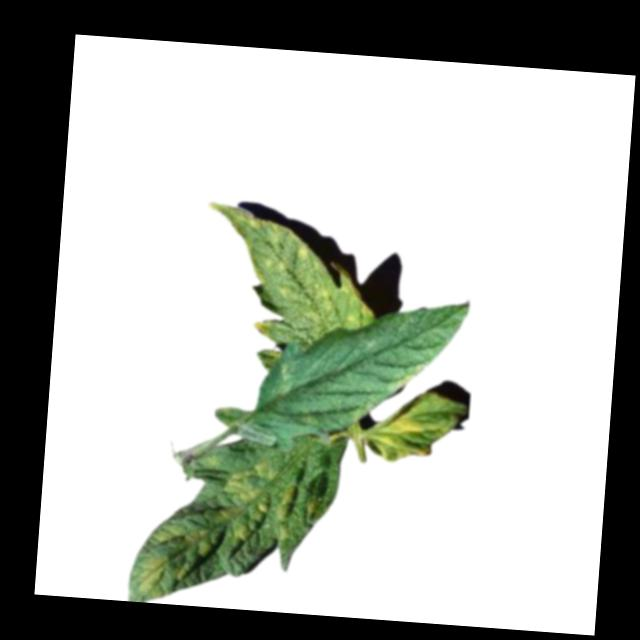Leaf_Mold: (195, 201, 380, 349), (127, 452, 293, 611), (367, 389, 434, 465), (270, 359, 298, 396)
